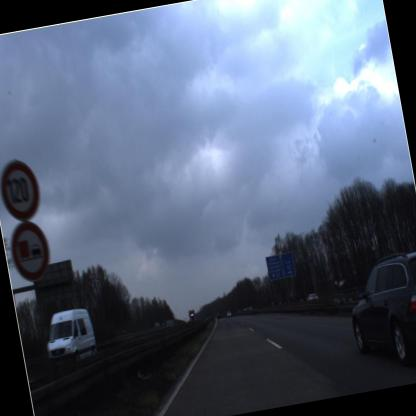prohibitory: (2, 214, 60, 294), (0, 148, 48, 224)
